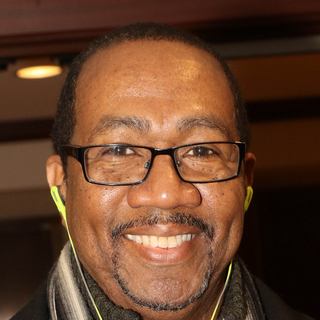eye: (183, 141, 226, 164), (100, 142, 143, 164)
